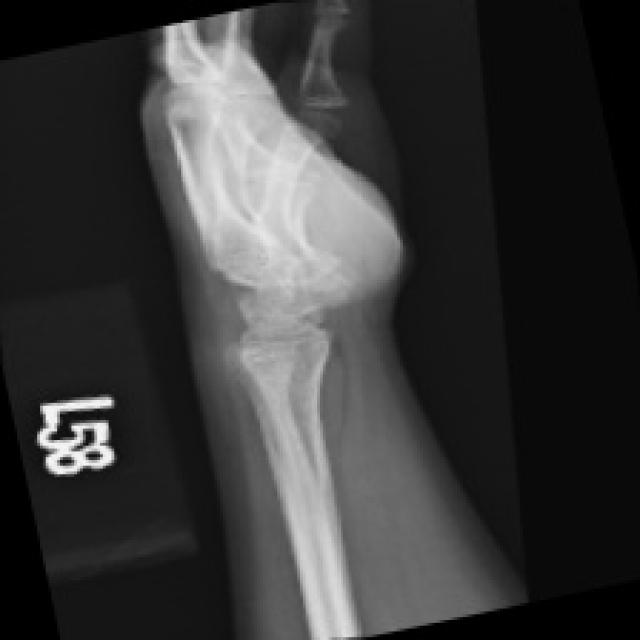fracture: (282, 77, 372, 158)
